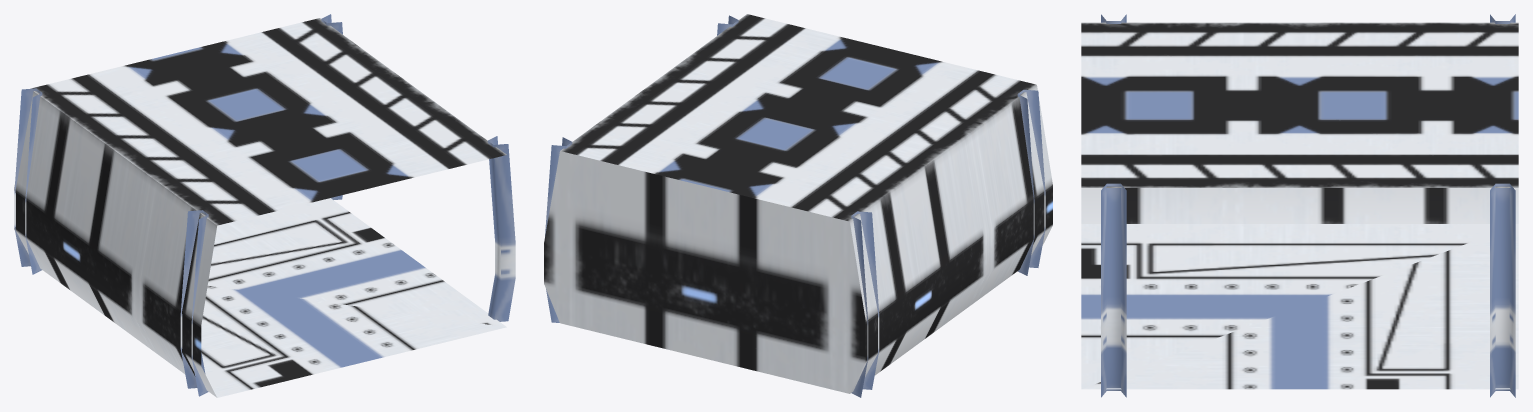
3 renders of one model, left to right at view 1: azimuth 30°, elevation 25°; view 2: azimuth 150°, elevation 25°; view 3: azimuth 270°, elevation 25°, orthographic. The views are drawn at different scales.
Visible parts, largest first — view 1: block:block_lvl2_block_lvl2_phong_block_0.001; view 2: block:block_lvl2_block_lvl2_phong_block_0.001; view 3: block:block_lvl2_block_lvl2_phong_block_0.001.
Part boxes in pixels (x1,y1,x2,y2): block:block_lvl2_block_lvl2_phong_block_0.001: (14,14,515,397); block:block_lvl2_block_lvl2_phong_block_0.001: (544,14,1052,397); block:block_lvl2_block_lvl2_phong_block_0.001: (1081,14,1518,397).
Size of the model in its own units: 13.86 by 7.25 by 13.86.
Materials: 1 (1 with a texture image).
